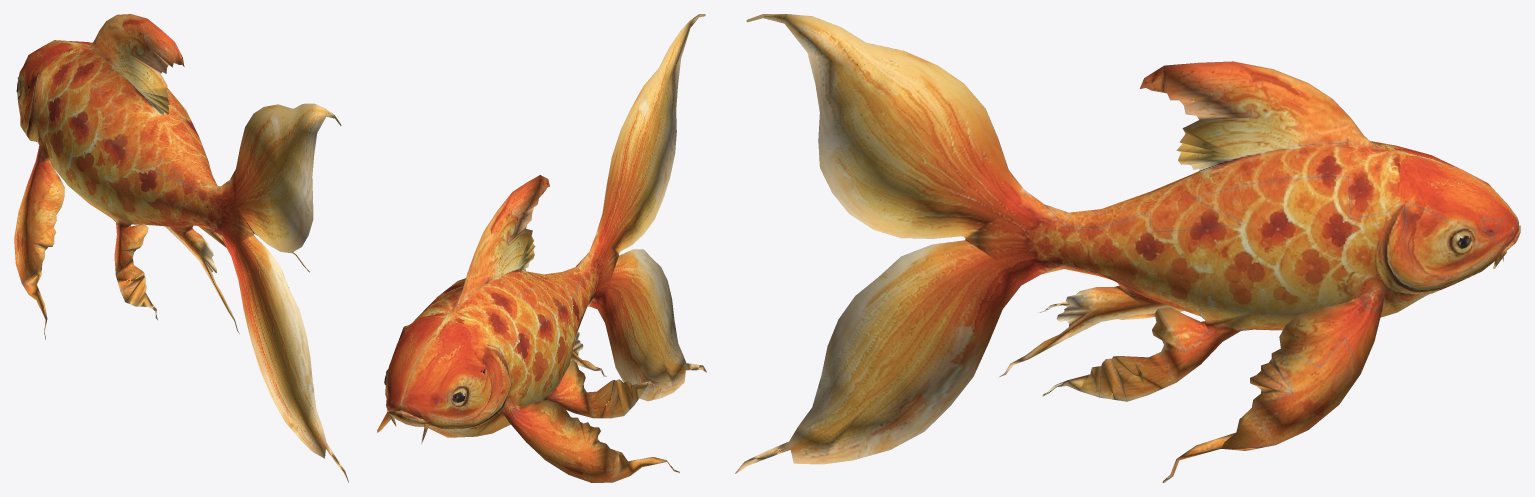
Rendered from 红鲤之影.glb.
3 views of the same model, side by side, from view 1: azimuth 30°, elevation 25°; view 2: azimuth 150°, elevation 25°; view 3: azimuth 270°, elevation 25° (orthographic). The views are drawn at different scales.
Visible parts, largest first — view 1: tripo_node_40343f4d-a61a-4283-ad2a-b33580ee5275; view 2: tripo_node_40343f4d-a61a-4283-ad2a-b33580ee5275; view 3: tripo_node_40343f4d-a61a-4283-ad2a-b33580ee5275.
Part boxes in pixels (x1,y1,x2,y2): tripo_node_40343f4d-a61a-4283-ad2a-b33580ee5275: (14,14,348,482); tripo_node_40343f4d-a61a-4283-ad2a-b33580ee5275: (377,14,706,482); tripo_node_40343f4d-a61a-4283-ad2a-b33580ee5275: (735,14,1520,482).
Bounding box in the file's own units: 0.498 × 0.6426 × 0.998.
1 material, 1 textured.
